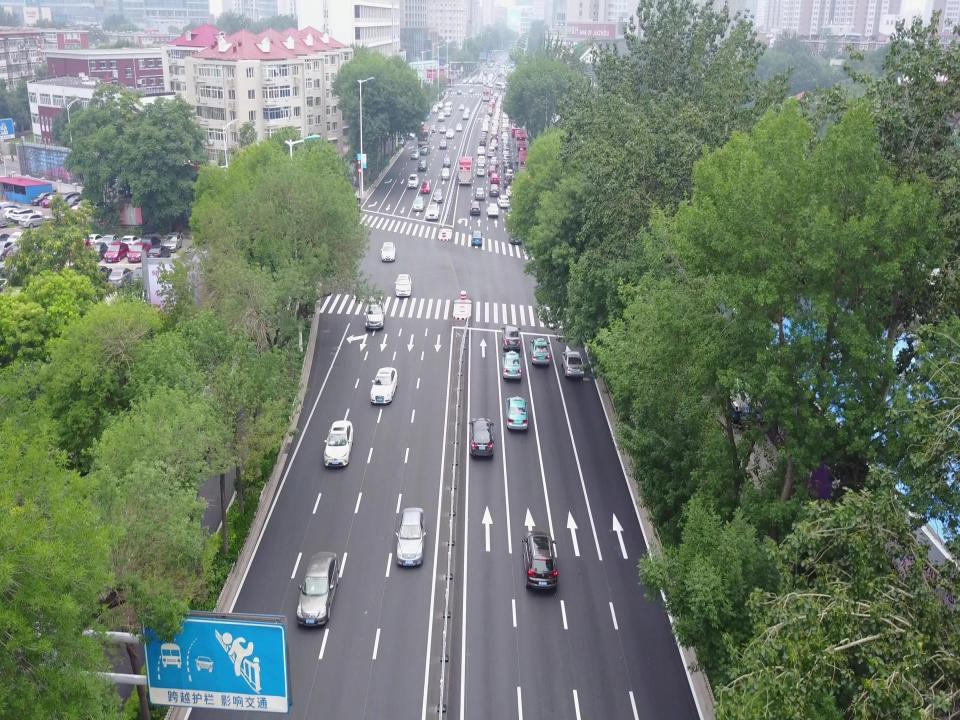bus: (459, 156, 473, 184), (518, 150, 532, 176), (515, 141, 527, 162), (418, 125, 430, 145), (511, 115, 521, 137), (514, 131, 526, 147), (483, 87, 490, 100), (445, 102, 452, 111)
car: (298, 550, 338, 626), (718, 365, 756, 434), (524, 530, 558, 593), (397, 508, 425, 568), (323, 421, 353, 466), (369, 367, 397, 404), (468, 418, 494, 457), (505, 396, 529, 431), (561, 351, 585, 380), (502, 351, 522, 379), (104, 242, 130, 263), (530, 338, 550, 365), (18, 213, 52, 228), (502, 324, 520, 350), (12, 209, 42, 224), (108, 267, 134, 284), (128, 242, 151, 260), (395, 272, 412, 296), (162, 232, 182, 252), (87, 242, 107, 262), (89, 266, 112, 283), (63, 194, 87, 209), (30, 190, 54, 205), (147, 245, 171, 259), (72, 200, 96, 213), (380, 242, 396, 261), (1, 207, 21, 222), (131, 267, 147, 285), (73, 240, 91, 256), (140, 236, 162, 249), (0, 240, 14, 260), (41, 195, 63, 207), (121, 235, 141, 248), (83, 233, 103, 246), (8, 231, 28, 244), (0, 200, 21, 212), (426, 201, 439, 220), (101, 234, 121, 246), (2, 204, 20, 216), (413, 195, 425, 211), (408, 173, 419, 189), (398, 130, 415, 140), (488, 203, 499, 217), (498, 194, 509, 207), (433, 188, 443, 202), (470, 201, 480, 215), (420, 180, 430, 193), (474, 187, 484, 200), (504, 175, 514, 188), (418, 159, 428, 171), (489, 184, 499, 196), (0, 232, 10, 243), (441, 167, 450, 179), (420, 146, 430, 156), (505, 170, 515, 180), (503, 162, 512, 172), (506, 185, 514, 196), (488, 164, 496, 175), (446, 128, 454, 138), (411, 150, 419, 160), (443, 156, 451, 166), (491, 172, 499, 182), (439, 140, 447, 149), (477, 147, 485, 156), (477, 156, 485, 165), (502, 147, 510, 156), (491, 156, 498, 166), (426, 128, 432, 139), (503, 154, 511, 162), (490, 140, 497, 149), (490, 133, 497, 142), (437, 100, 443, 109), (456, 123, 462, 131), (430, 124, 436, 132), (481, 132, 487, 140), (480, 137, 486, 145), (503, 144, 509, 152), (492, 121, 498, 129), (503, 115, 509, 123), (502, 132, 508, 140), (444, 109, 450, 116), (440, 126, 446, 133), (487, 109, 493, 116), (484, 115, 490, 122), (483, 120, 489, 127), (482, 125, 488, 132), (491, 129, 497, 136), (492, 117, 498, 124), (503, 121, 509, 128), (501, 127, 508, 133), (503, 138, 509, 145), (468, 88, 474, 94), (464, 108, 470, 114), (492, 125, 498, 131), (463, 113, 468, 120), (488, 103, 493, 110), (459, 104, 464, 110), (494, 114, 499, 120), (457, 89, 461, 94), (489, 90, 493, 95), (490, 101, 494, 106)
van: (366, 297, 384, 330), (57, 192, 79, 205), (0, 211, 7, 228), (477, 164, 485, 176), (488, 146, 495, 156), (437, 112, 444, 121), (432, 105, 438, 113)
